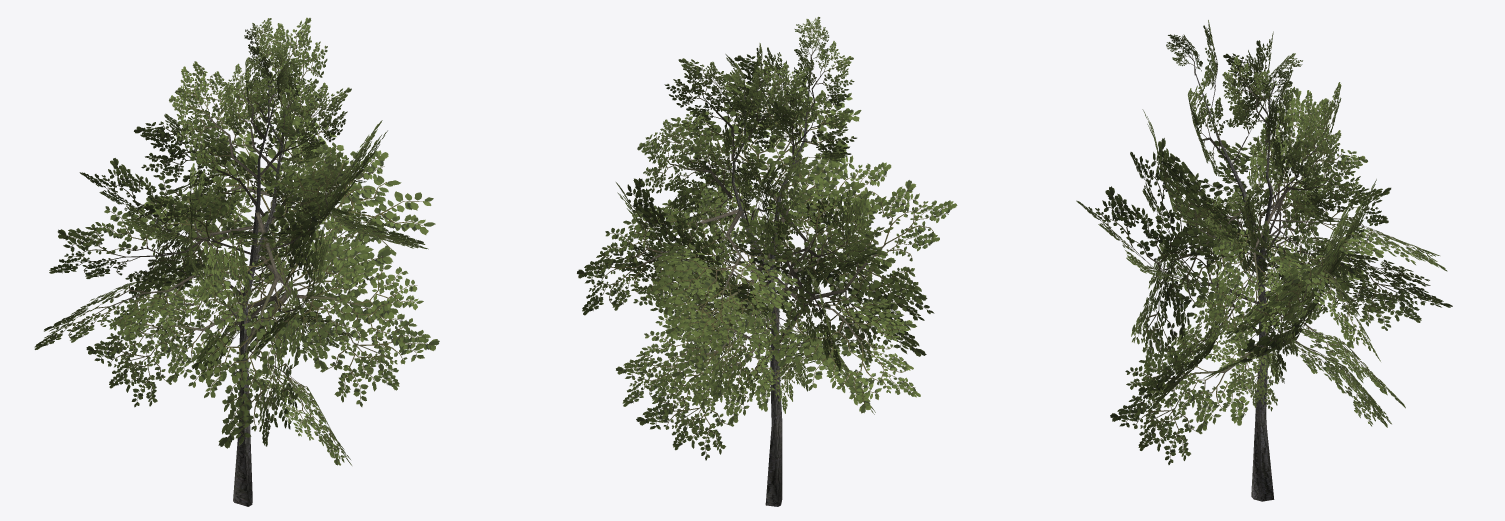
The model's file is tree9.fbx.
3 renders of one model, left to right at view 1: azimuth 30°, elevation 25°; view 2: azimuth 150°, elevation 25°; view 3: azimuth 270°, elevation 25°, orthographic. The views are drawn at different scales.
Parts seen in each view (by area): view 1: Tree-01-3; view 2: Tree-01-3; view 3: Tree-01-3.
Boxes of the visible parts, x1=… form: Tree-01-3: x1=34, y1=17, x2=439, y2=506; Tree-01-3: x1=577, y1=16, x2=957, y2=506; Tree-01-3: x1=1076, y1=20, x2=1452, y2=501.
Size of the model in its own units: 727 by 751 by 621.
